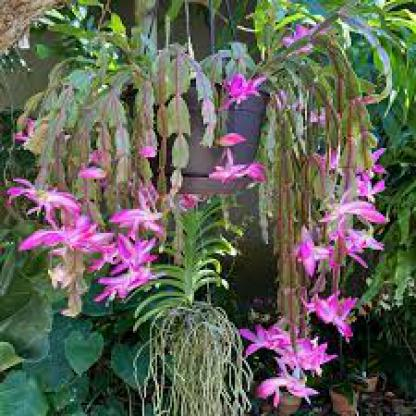Aglonema: (26, 124, 388, 369)
